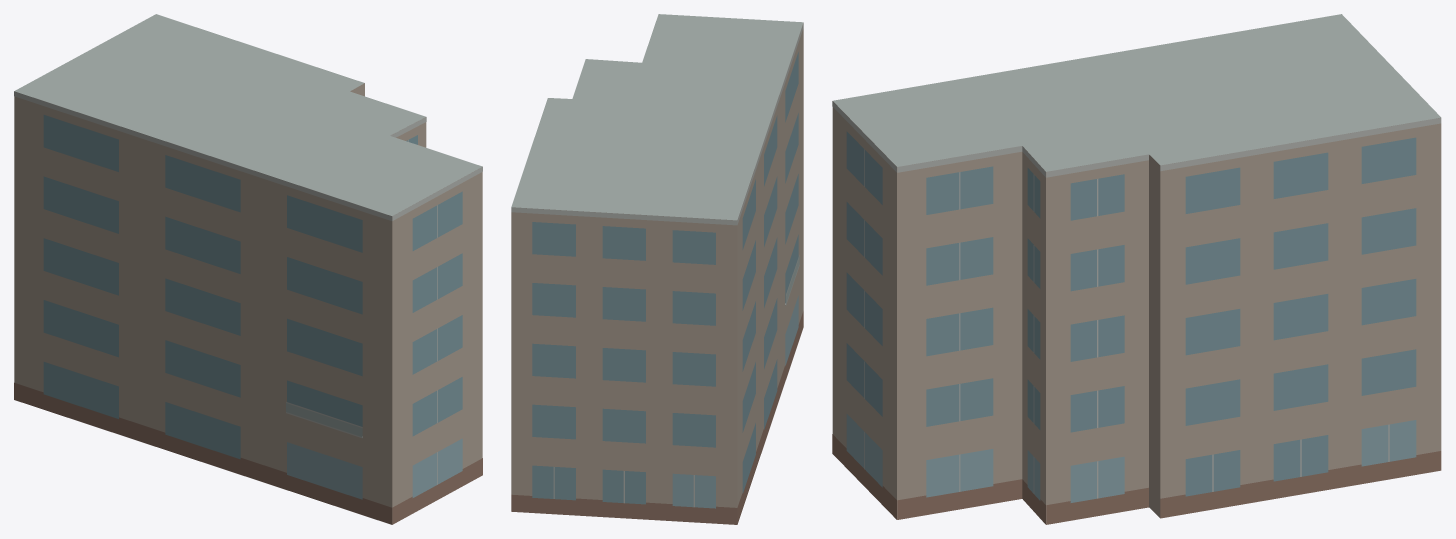
File: survey-upis-32690425.glb
3 renders of one model, left to right at view 1: azimuth 30°, elevation 25°; view 2: azimuth 150°, elevation 25°; view 3: azimuth 270°, elevation 25°, orthographic. The views are drawn at different scales.
Parts seen in each view (by area): view 1: survey-upis-32690425.tmp; view 2: survey-upis-32690425.tmp; view 3: survey-upis-32690425.tmp.
Part boxes in pixels (<box>): survey-upis-32690425.tmp: <box>14,14,482,524</box>; survey-upis-32690425.tmp: <box>511,14,803,524</box>; survey-upis-32690425.tmp: <box>832,14,1441,524</box>.
Bounding box in the file's own units: 14.21 × 14.8 × 23.15.
